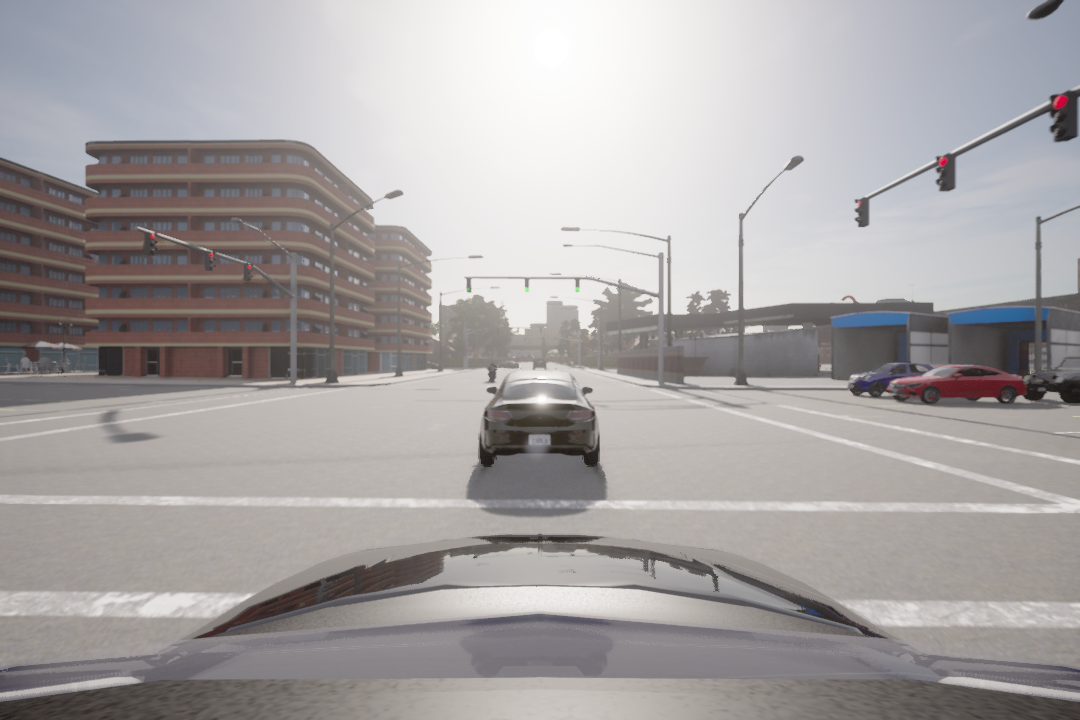TrafficLight: (1047, 91, 1077, 143), (937, 154, 955, 200), (853, 195, 871, 228), (141, 231, 160, 257), (201, 249, 215, 273), (240, 261, 253, 283), (463, 277, 475, 293), (572, 276, 581, 294), (523, 277, 531, 293)
